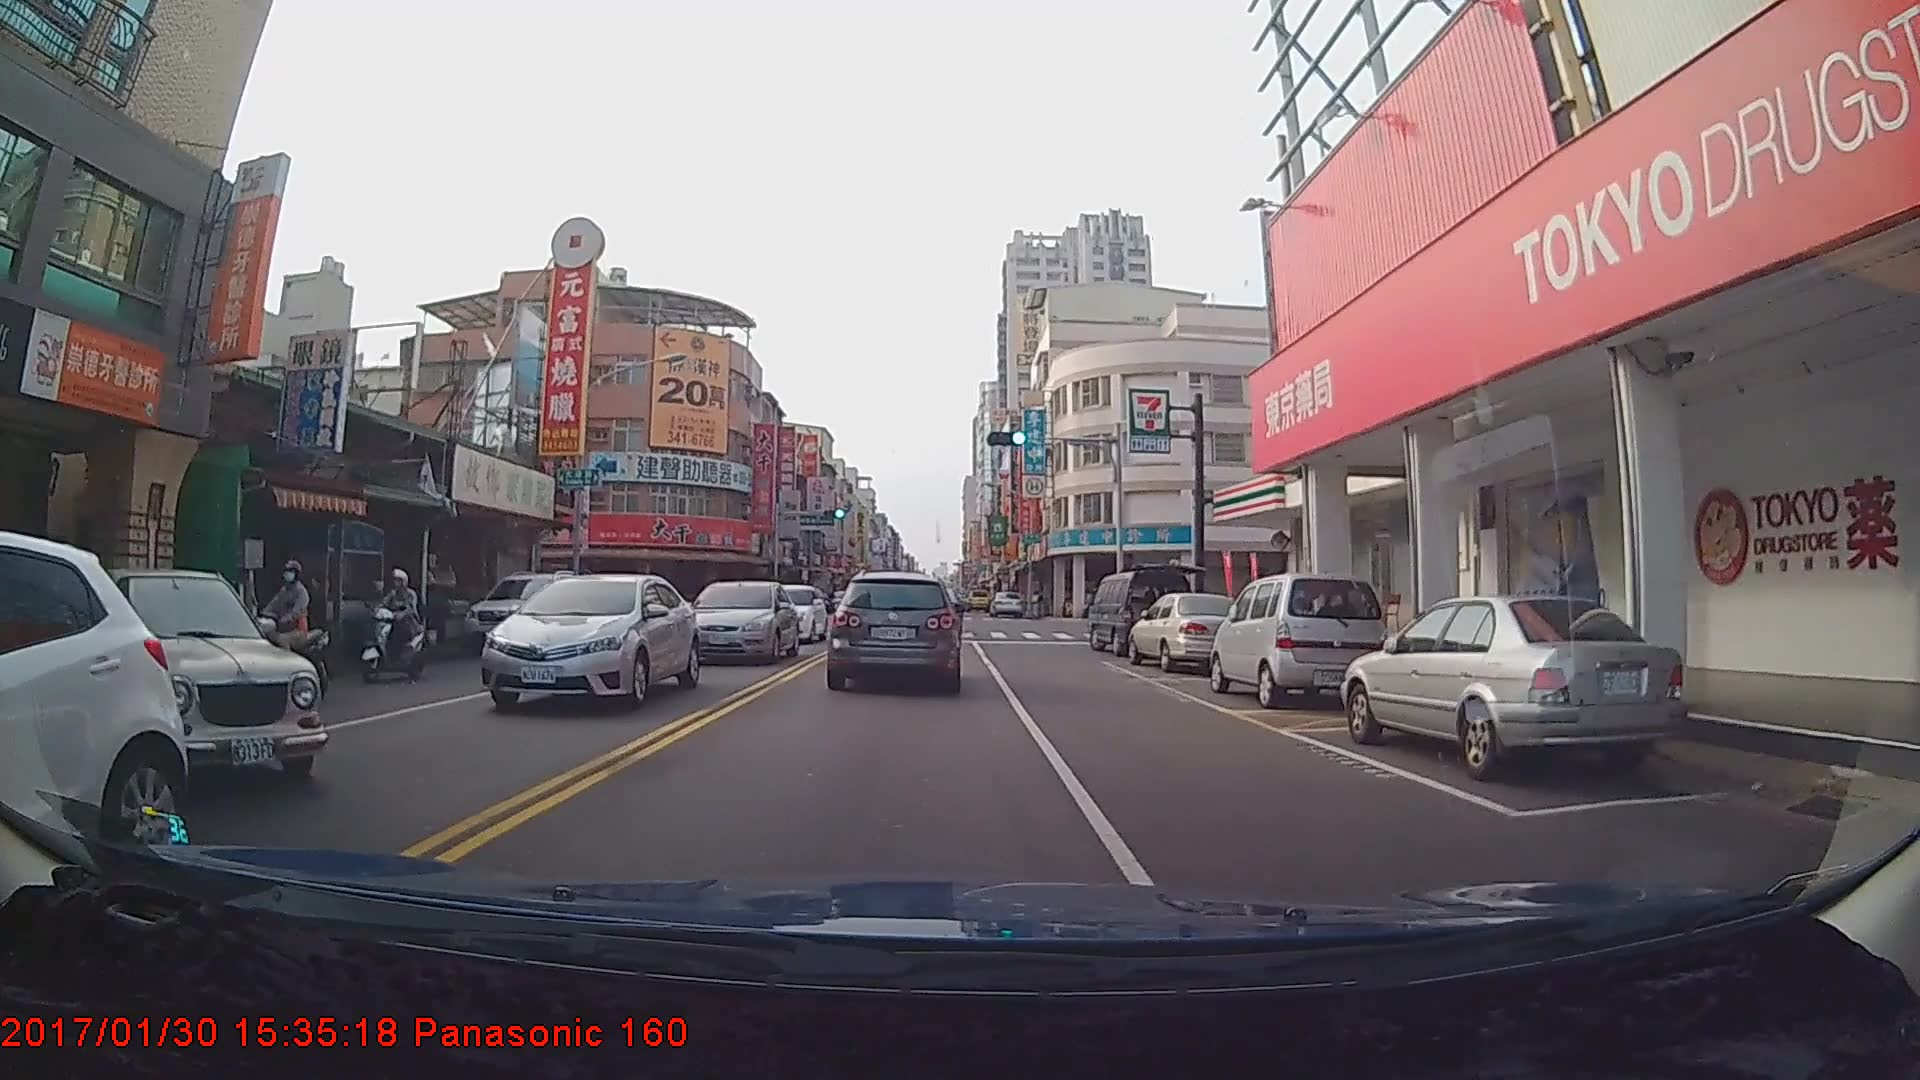rider: (240, 558, 337, 700), (354, 570, 438, 682)
vehicle: (0, 564, 325, 780), (1, 528, 188, 890), (1340, 591, 1682, 780), (475, 573, 691, 717), (1209, 573, 1392, 714), (831, 571, 959, 691), (460, 569, 584, 657), (682, 579, 797, 667), (1130, 592, 1249, 673), (1087, 574, 1194, 655), (753, 584, 827, 644), (986, 590, 1024, 617)
